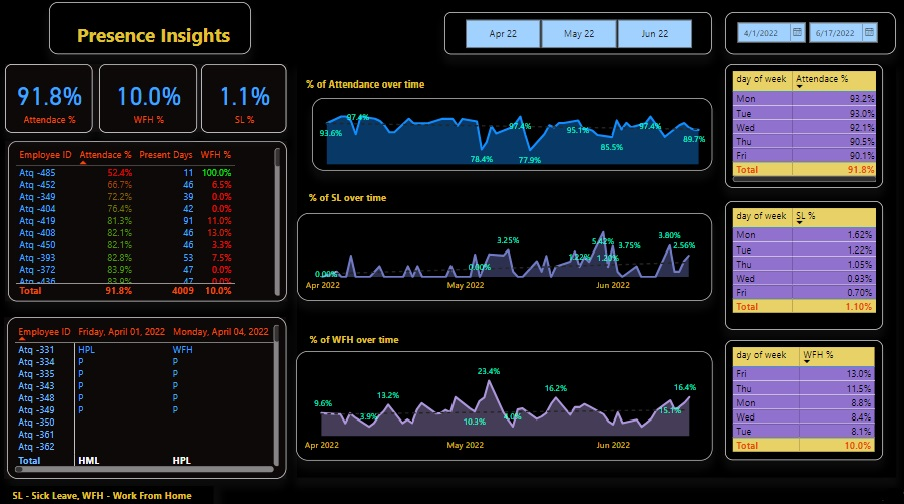

What the dashboard file says about the page in this screenshot:
{"tool":"powerbi","page":{"name":"Presence Insights","canvas":[1280,720],"ordinal":0},"visuals":[{"type":"textbox","box":[7.8,205.6,399.9,225.5],"z":0},{"type":"textbox","box":[7.8,453.3,399.8,227.6],"z":1000},{"type":"textbox","box":[422.3,97.9,848.1,582.3],"z":2000},{"type":"textbox","box":[7.8,98,399.9,95.4],"z":3000},{"type":"tableEx","fields":{"Values":["Final Data.Employee ID","Measures (2).Attendace %","Measures (2).Present Days","Measures (2).WFH %"]},"box":[12.6,205.2,394.9,225.7],"z":4000},{"type":"slicer","fields":{"Values":["Final Data.Date"]},"box":[1027.3,5.2,252.7,46.3],"z":5000},{"type":"slicer","fields":{"Values":["Final Data.MMM YY"]},"box":[630.4,10.5,379.5,35.8],"z":6000},{"type":"areaChart","fields":{"Category":["Final Data.MMM YY","Final Data.Date"],"Y":["Measures (2).WFH %"]},"box":[420.7,502.3,589,153.5],"z":7000},{"type":"areaChart","fields":{"Category":["Final Data.WeekNo","Final Data.Date"],"Y":["Measures (2).Attendace %"]},"box":[444.1,144.9,540.4,103.2],"z":8000},{"type":"card","fields":{"Values":["Measures (2).Attendace %"]},"box":[7.8,98,124,96.3],"z":9000},{"type":"card","fields":{"Values":["Measures (2).WFH %"]},"box":[141.4,98,138.8,96.3],"z":10000},{"type":"areaChart","fields":{"Category":["Final Data.MMM YY","Final Data.Date"],"Y":["Measures (2).SL %"]},"box":[422.5,307.1,556,124],"z":11000},{"type":"card","fields":{"Values":["Measures (2).SL %"]},"box":[286.3,97.2,121.4,96.3],"z":13000},{"type":"textbox","box":[70.3,0,320.1,71.1],"z":14000},{"type":"textbox","box":[422.4,98.2,192.5,27.5],"z":15000},{"type":"textbox","box":[422.5,286.3,192.6,26.9],"z":16000},{"type":"textbox","box":[422.1,473.7,192.6,27.2],"z":17000},{"type":"pivotTable","fields":{"Rows":["Final Data.Employee ID"],"Columns":["Final Data.Date"],"Values":["Min(Final Data.Value)"]},"box":[11.7,453.3,395.9,227.6],"z":18000},{"type":"textbox","box":[13.6,691.6,289.8,28.2],"z":19000},{"type":"tableEx","fields":{"Values":["Final Data.day of week","Measures (2).Attendace %"]},"box":[1060.9,125.8,209.9,145.7],"z":20000},{"type":"tableEx","fields":{"Values":["Final Data.day of week","Measures (2).SL %"]},"box":[1060.9,294.1,191.7,167.4],"z":21000},{"type":"tableEx","fields":{"Values":["Final Data.day of week","Measures (2).WFH %"]},"box":[1068.7,483.2,170,167.4],"z":22000}]}

Visuals, with their boxes in screenshot pixels (x1, y1, x2, y2), scaled from the page's 1280x720 canvas onto the 904x504 screenshot:
textbox: left=6, top=144, right=288, bottom=302
textbox: left=6, top=317, right=288, bottom=477
textbox: left=298, top=69, right=897, bottom=476
textbox: left=6, top=69, right=288, bottom=135
tableEx - Final Data.Employee ID x Measures (2).Attendace %: left=9, top=144, right=288, bottom=302
slicer - Final Data.Date: left=726, top=4, right=903, bottom=36
slicer - Final Data.MMM YY: left=445, top=7, right=713, bottom=32
areaChart - Final Data.MMM YY x Final Data.Date: left=297, top=352, right=713, bottom=459
areaChart - Final Data.WeekNo x Final Data.Date: left=314, top=101, right=695, bottom=174
card - Measures (2).Attendace %: left=6, top=69, right=93, bottom=136
card - Measures (2).WFH %: left=100, top=69, right=198, bottom=136
areaChart - Final Data.MMM YY x Final Data.Date: left=298, top=215, right=691, bottom=302
card - Measures (2).SL %: left=202, top=68, right=288, bottom=135
textbox: left=50, top=0, right=276, bottom=50
textbox: left=298, top=69, right=434, bottom=88
textbox: left=298, top=200, right=434, bottom=219
textbox: left=298, top=332, right=434, bottom=351
pivotTable - Final Data.Employee ID x Final Data.Date: left=8, top=317, right=288, bottom=477
textbox: left=10, top=484, right=214, bottom=503
tableEx - Final Data.day of week x Measures (2).Attendace %: left=749, top=88, right=898, bottom=190
tableEx - Final Data.day of week x Measures (2).SL %: left=749, top=206, right=885, bottom=323
tableEx - Final Data.day of week x Measures (2).WFH %: left=755, top=338, right=875, bottom=455
